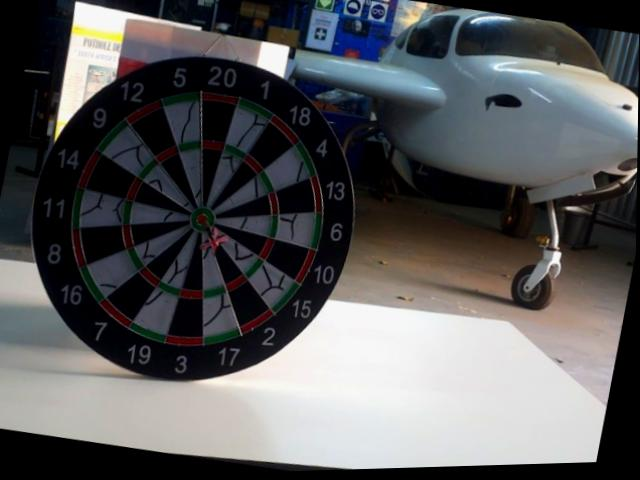bullseye: (189, 208, 215, 234)
